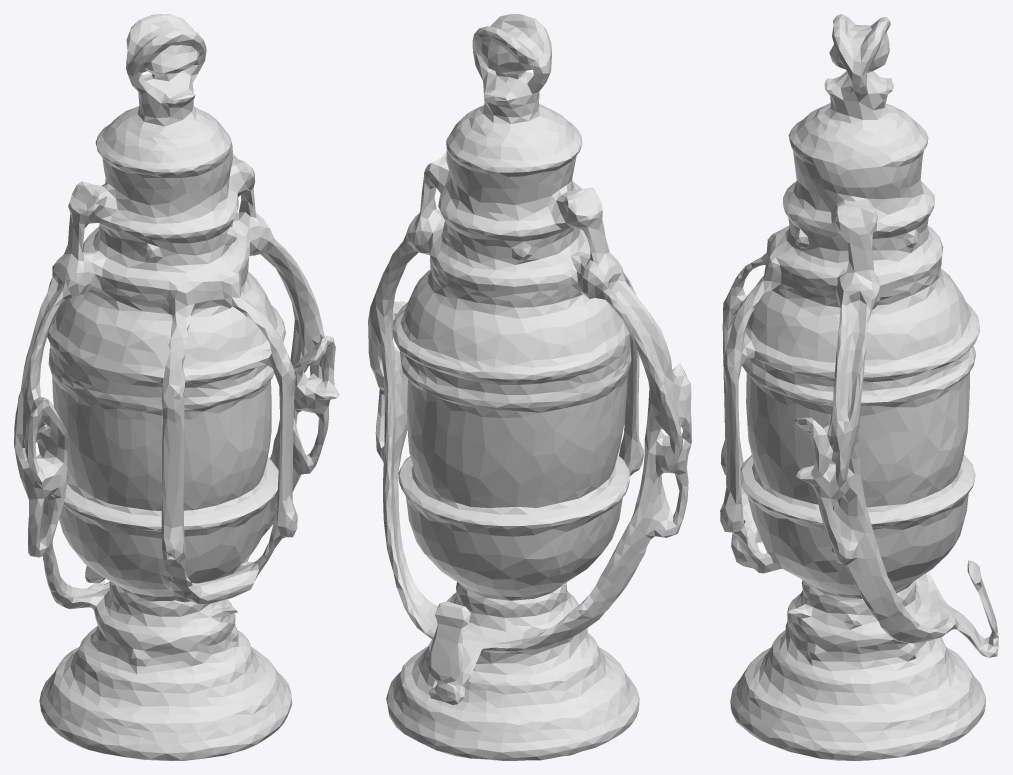
File: lantern_frost_r2.glb
The picture shows the model from 3 angles, left to right: view 1: azimuth 30°, elevation 25°; view 2: azimuth 150°, elevation 25°; view 3: azimuth 270°, elevation 25°; orthographic projection.
Parts seen in each view (by area): view 1: Low; view 2: Low; view 3: Low.
Part boxes in pixels (x1,y1,x2,y2): Low: (14,14,339,760); Low: (368,14,691,760); Low: (720,14,998,760).
Bounding box in the file's own units: 0.9413 × 1.99 × 0.7262.
1 material, 1 textured.
